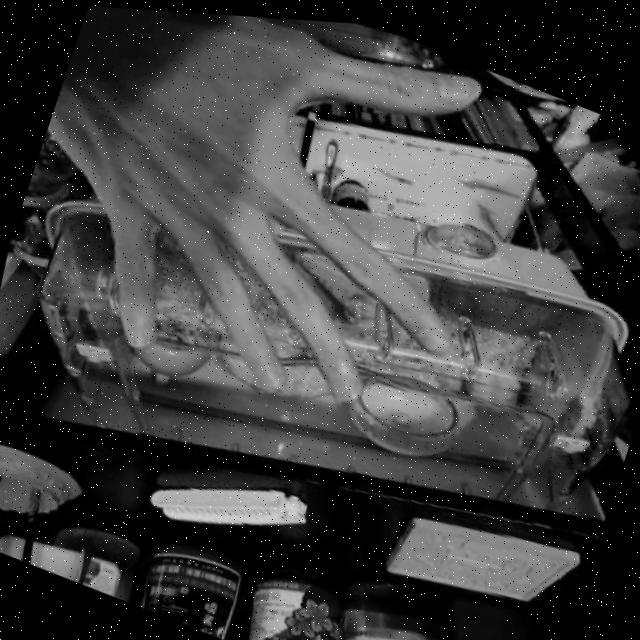hand: (12, 1, 536, 456)
